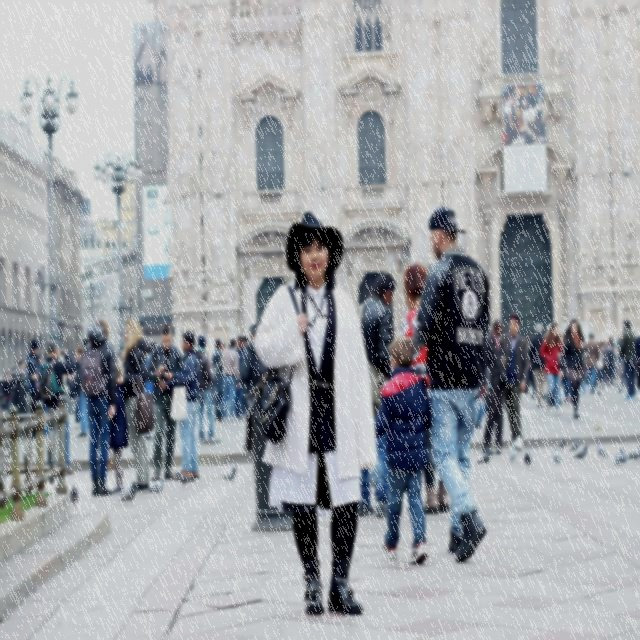pessoa: (241, 206, 379, 620), (402, 202, 492, 567), (367, 332, 432, 564), (399, 262, 452, 516), (356, 272, 396, 518), (74, 317, 119, 496), (113, 317, 152, 495), (158, 331, 203, 481), (146, 323, 182, 481), (498, 311, 532, 454), (39, 340, 75, 474), (500, 80, 550, 152), (481, 318, 506, 455), (559, 318, 588, 421), (196, 336, 222, 444), (239, 323, 268, 413), (108, 360, 125, 496), (540, 320, 564, 416), (144, 341, 167, 441), (528, 322, 549, 407), (221, 338, 241, 422), (580, 330, 602, 396), (620, 319, 636, 401), (74, 346, 88, 439), (598, 335, 620, 394), (26, 338, 42, 414), (210, 340, 224, 420), (234, 336, 246, 420), (212, 338, 224, 422), (560, 333, 573, 403), (3, 366, 17, 413), (526, 335, 536, 394), (12, 360, 28, 380), (242, 335, 251, 355), (38, 352, 43, 366), (82, 337, 88, 347)
